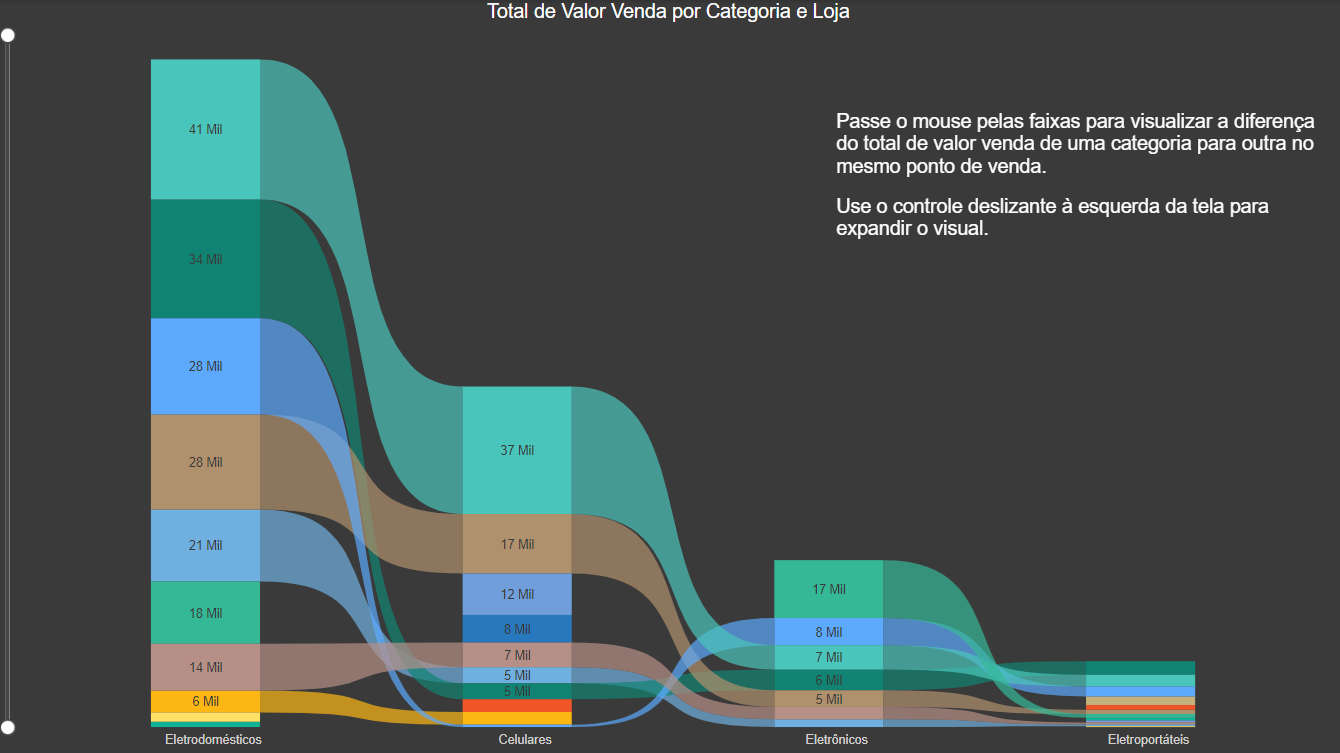

What the dashboard file says about the page in this screenshot:
{"tool":"powerbi","page":{"name":"Faixas de Vendas por Categoria e Pontos de Venda","canvas":[1280,720],"ordinal":3},"visuals":[{"type":"ribbonChart","fields":{"Category":["Vendas.Categoria"],"Y":["Sum(Vendas.ValorVenda)"],"Series":["Vendas.Loja"]},"box":[0,0,1280.2,719.9],"z":0,"group":"g1"},{"type":"group","id":"g1","title":"Grupo 1","box":[0,0,1280.2,719.9],"z":1501},{"type":"textbox","box":[795,100,468.9,139.2],"z":2000,"group":"g1"}]}

Visuals, with their boxes in screenshot pixels (x1, y1, x2, y2), scaled from the page's 1280x720 canvas onto the 1340x753 screenshot:
ribbonChart - Vendas.Categoria x Sum(Vendas.ValorVenda): select_region(0, 0, 1339, 752)
"Grupo 1" group: select_region(0, 0, 1339, 752)
textbox: select_region(832, 105, 1323, 250)
